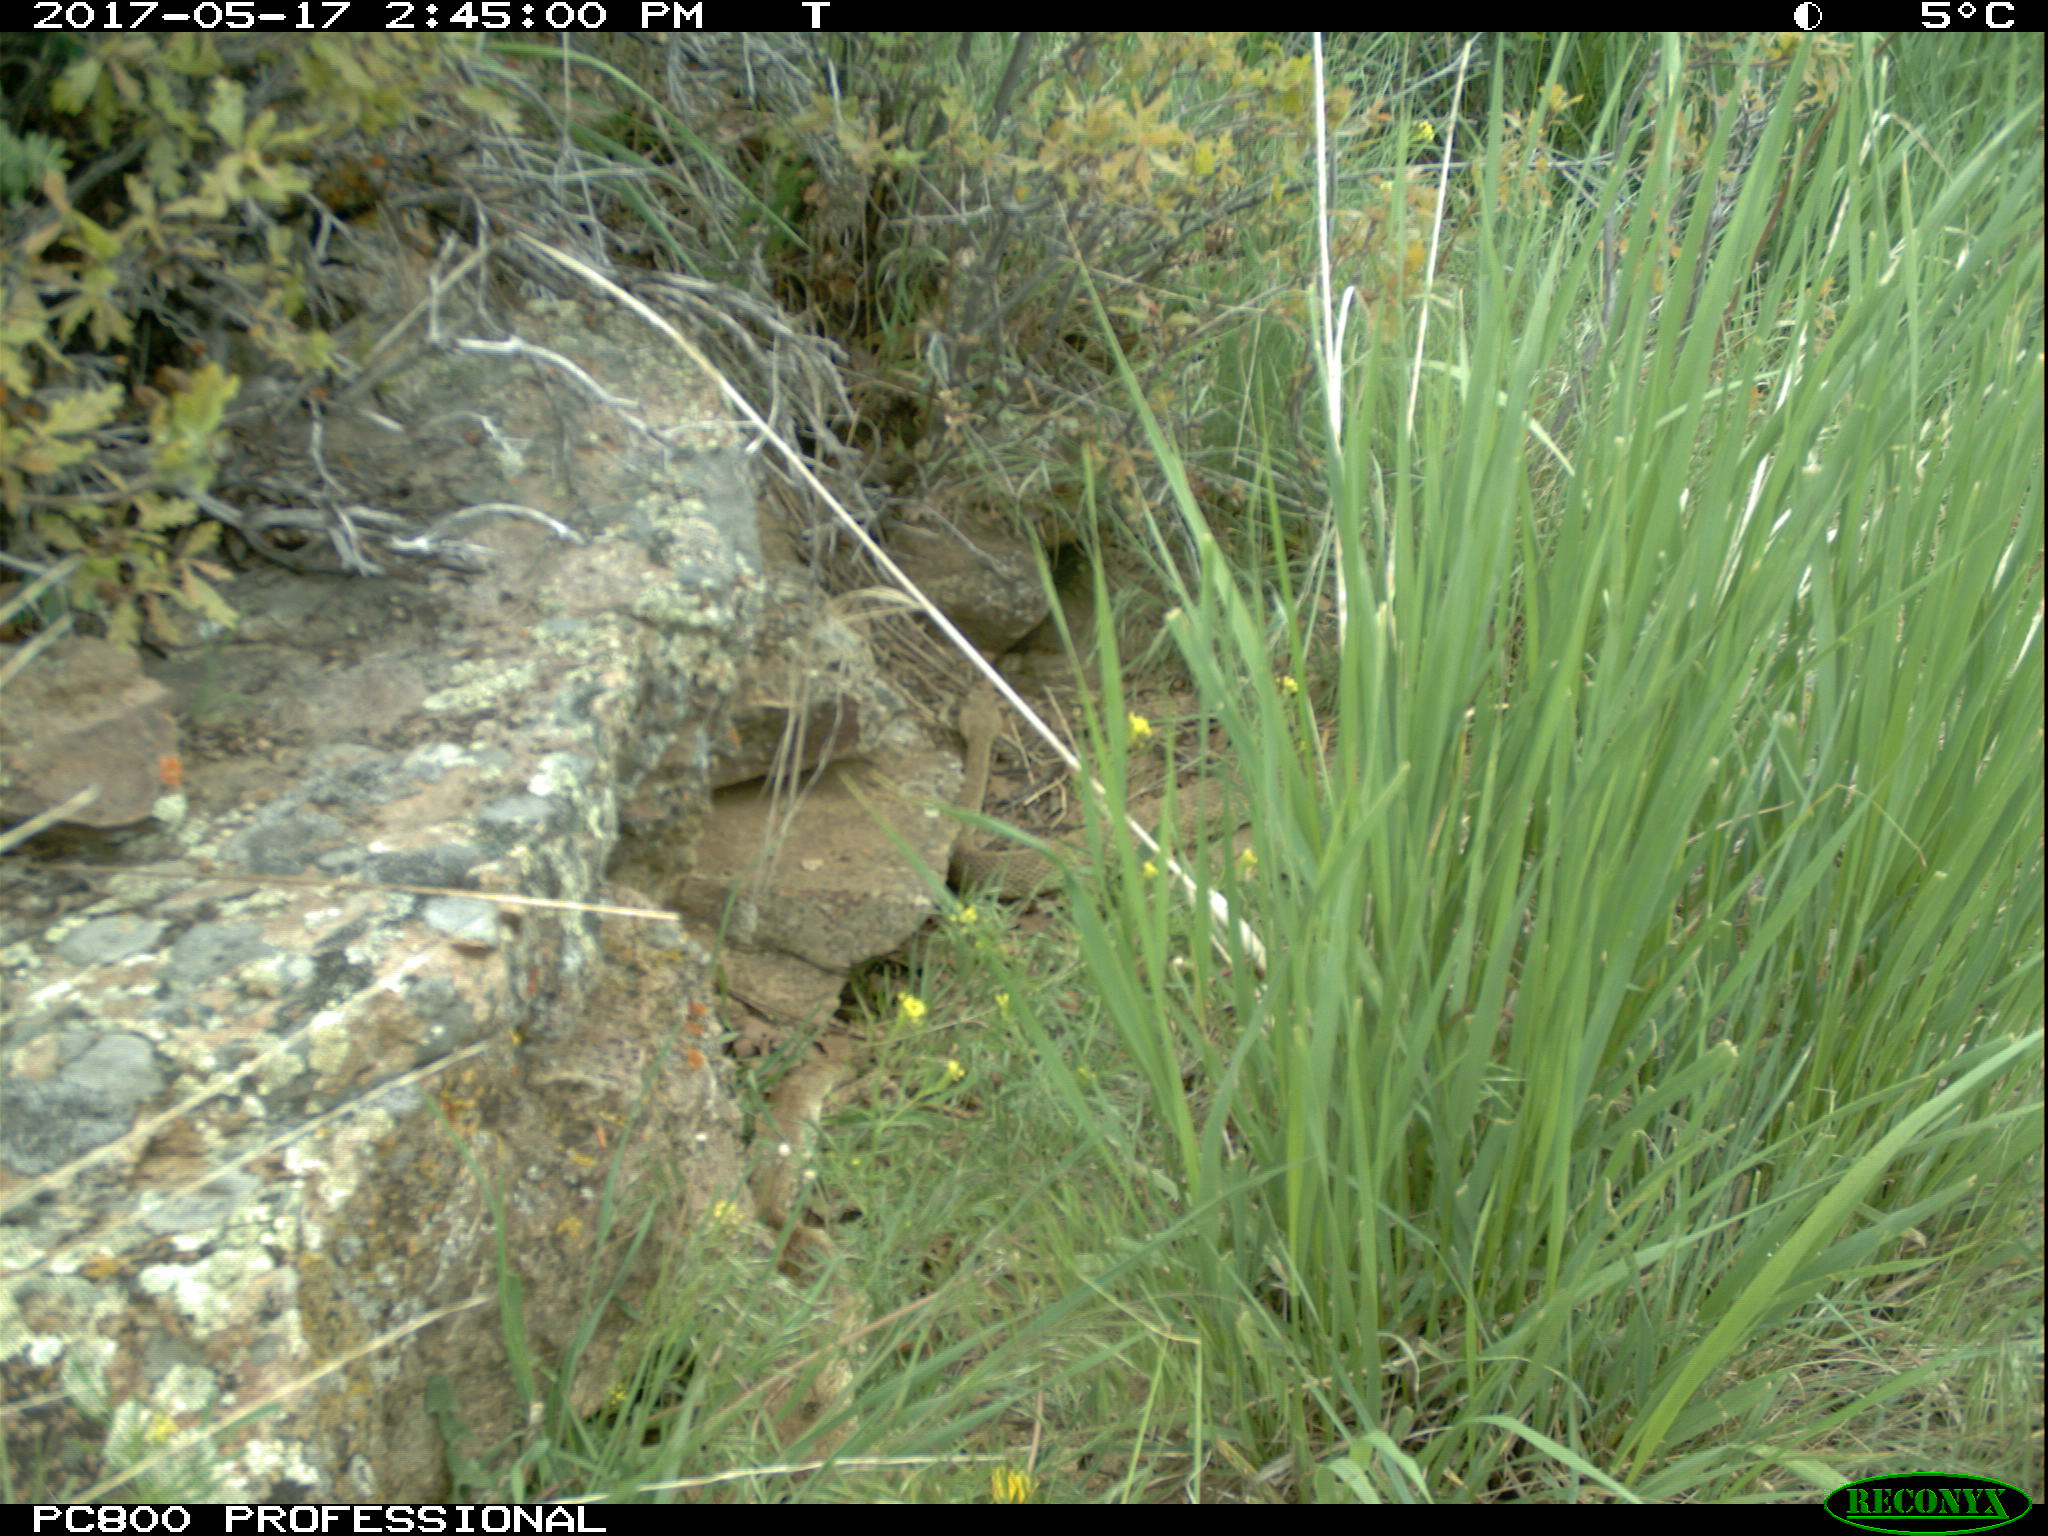snake: (956, 678, 1255, 894), (747, 1062, 866, 1399)
